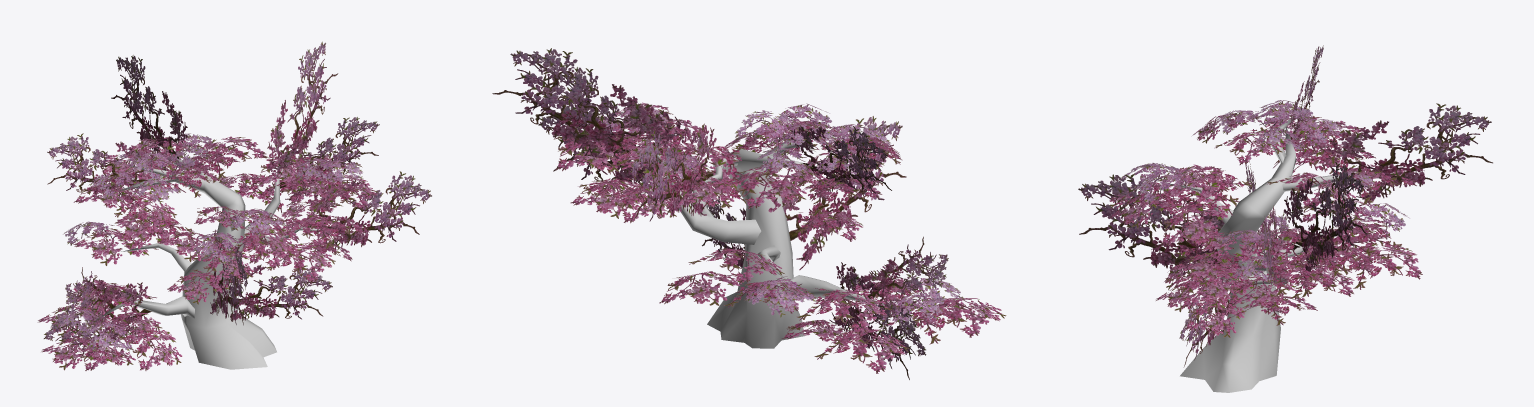
The model's file is environment_Tree_taoshu_001_e.FBX.
The picture shows the model from 3 angles, left to right: view 1: azimuth 30°, elevation 25°; view 2: azimuth 150°, elevation 25°; view 3: azimuth 270°, elevation 25°; orthographic projection. The views are drawn at different scales.
Parts seen in each view (by area): view 1: environment_Tree_taoshu_001_e_02, environment_Tree_taoshu_001_e_01; view 2: environment_Tree_taoshu_001_e_02, environment_Tree_taoshu_001_e_01; view 3: environment_Tree_taoshu_001_e_02, environment_Tree_taoshu_001_e_01.
Part boxes in pixels (x1=…): environment_Tree_taoshu_001_e_02: x1=37, y1=41, x2=431, y2=370; environment_Tree_taoshu_001_e_01: x1=96, y1=153, x2=320, y2=369; environment_Tree_taoshu_001_e_02: x1=492, y1=48, x2=1006, y2=379; environment_Tree_taoshu_001_e_01: x1=644, y1=126, x2=890, y2=348; environment_Tree_taoshu_001_e_02: x1=1078, y1=45, x2=1492, y2=367; environment_Tree_taoshu_001_e_01: x1=1167, y1=116, x2=1355, y2=392.
Bounding box in the file's own units: 3453 × 2907 × 2130.
